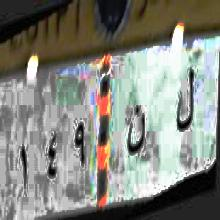1: (17, 143, 31, 194)
4: (46, 128, 59, 190)
9: (72, 118, 90, 180)
laam: (174, 60, 196, 149)
noon: (126, 100, 147, 164)
